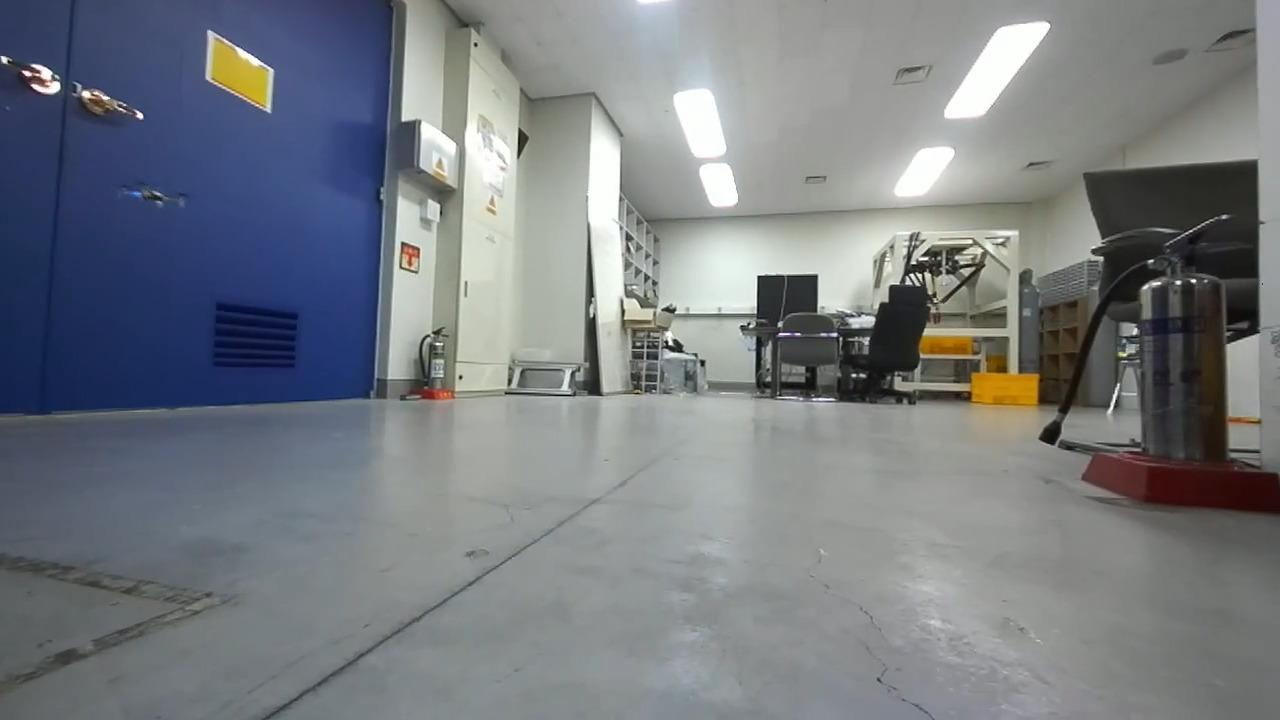crazyflie: (114, 178, 188, 215)
